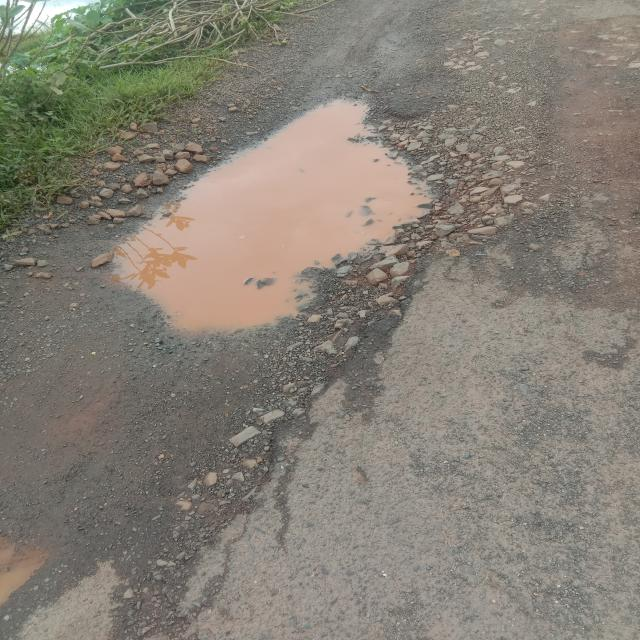potholes: (77, 89, 445, 345)
